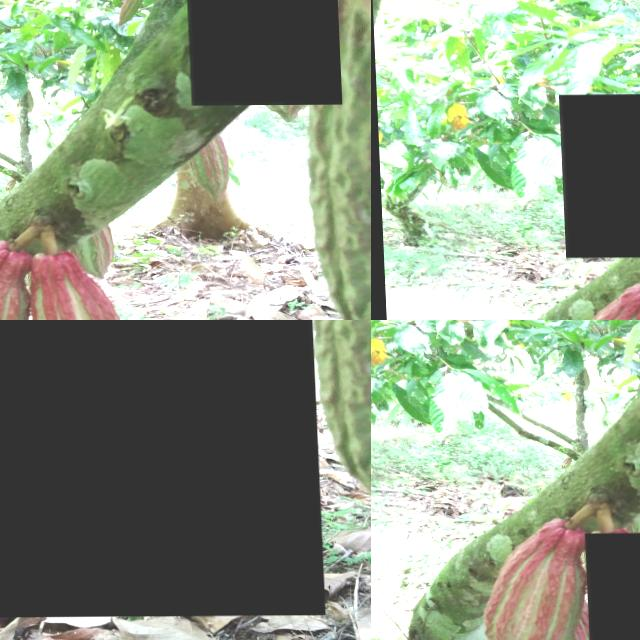Fitoftora: (0, 320, 320, 617), (581, 533, 640, 640)
Monilia: (185, 0, 340, 106)
Sana: (372, 1, 529, 320), (557, 95, 640, 258), (475, 527, 590, 640), (526, 600, 603, 640), (628, 505, 640, 554)
